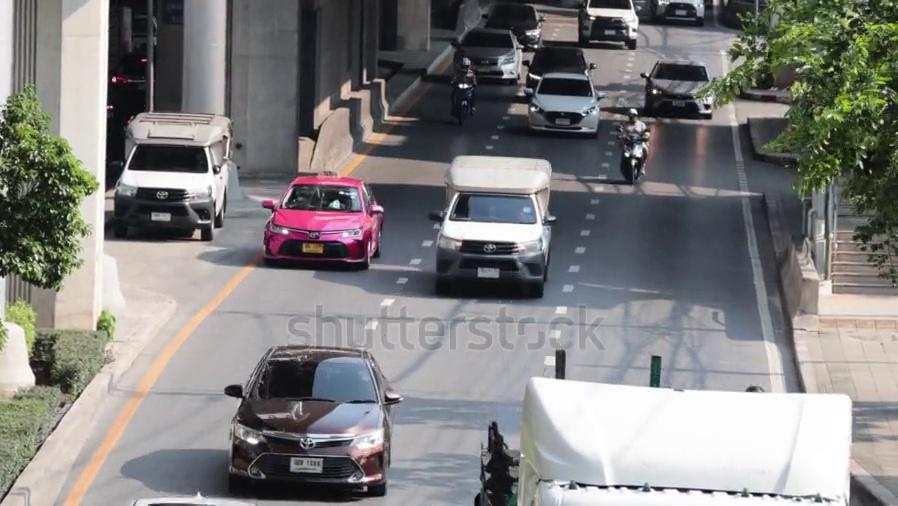rider: (617, 105, 649, 180), (448, 58, 478, 128)
with_helmate: (459, 59, 472, 73), (626, 109, 638, 121)
